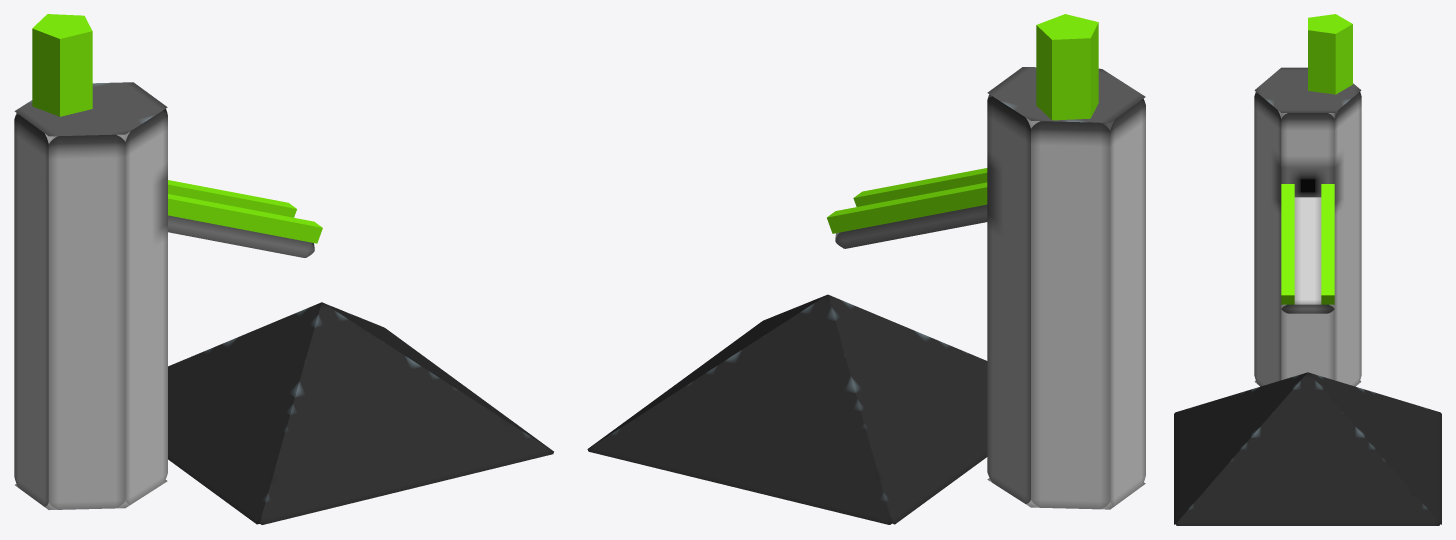
The model's file is coal.fbx.
3 views of the same model, side by side, from view 1: azimuth 30°, elevation 25°; view 2: azimuth 150°, elevation 25°; view 3: azimuth 270°, elevation 25° (orthographic). The views are drawn at different scales.
Visible parts, largest first — view 1: cylinder; view 2: cylinder; view 3: cylinder.
Part boxes in pixels (<box>): cylinder: <box>14,14,553,524</box>; cylinder: <box>587,14,1145,524</box>; cylinder: <box>1174,14,1441,525</box>.
Bounding box in the file's own units: 92.19 × 90.62 × 62.5.
Materials: 2 (2 with a texture image).
